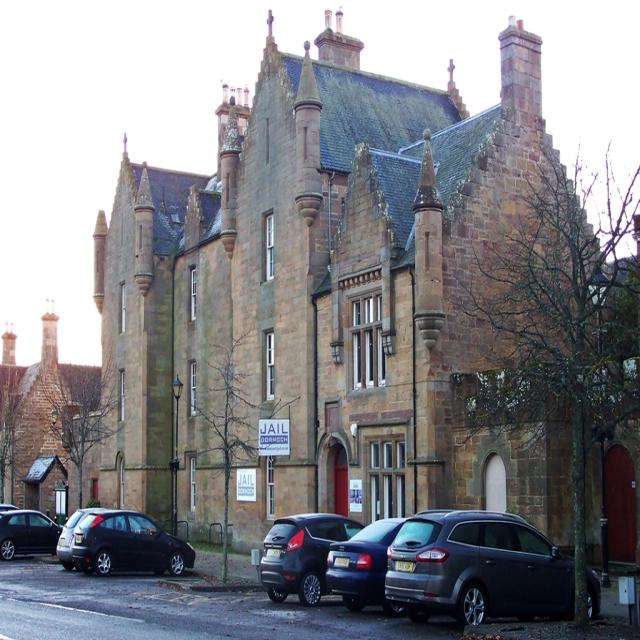car: (371, 513, 587, 631), (72, 510, 195, 580)
